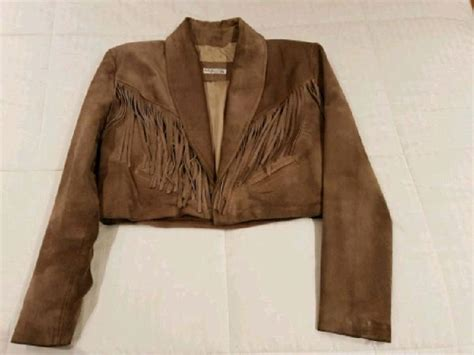gamuza: (11, 18, 392, 349)
